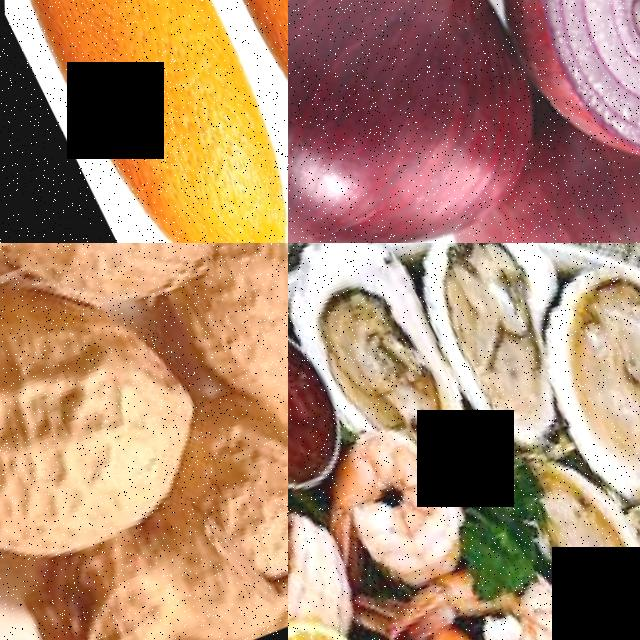lemon: (288, 598, 406, 640)
onion: (288, 0, 584, 243), (452, 0, 640, 189), (450, 72, 640, 243)
orange: (0, 0, 288, 243), (121, 0, 288, 243)
oysters: (389, 243, 617, 452), (288, 243, 463, 446), (524, 245, 640, 514)
peanuts: (0, 243, 217, 640), (166, 243, 288, 480), (0, 243, 288, 331)
shrimp: (316, 416, 480, 604), (446, 532, 600, 640), (371, 580, 530, 640)
